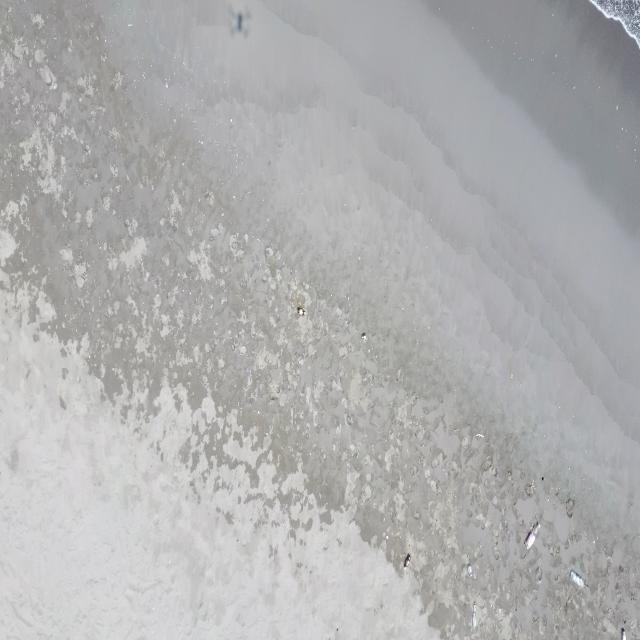glass: (525, 523, 541, 550), (570, 570, 588, 590), (403, 553, 412, 572), (471, 602, 477, 630), (297, 306, 306, 316), (468, 565, 473, 577), (622, 629, 627, 640), (361, 333, 367, 340)
